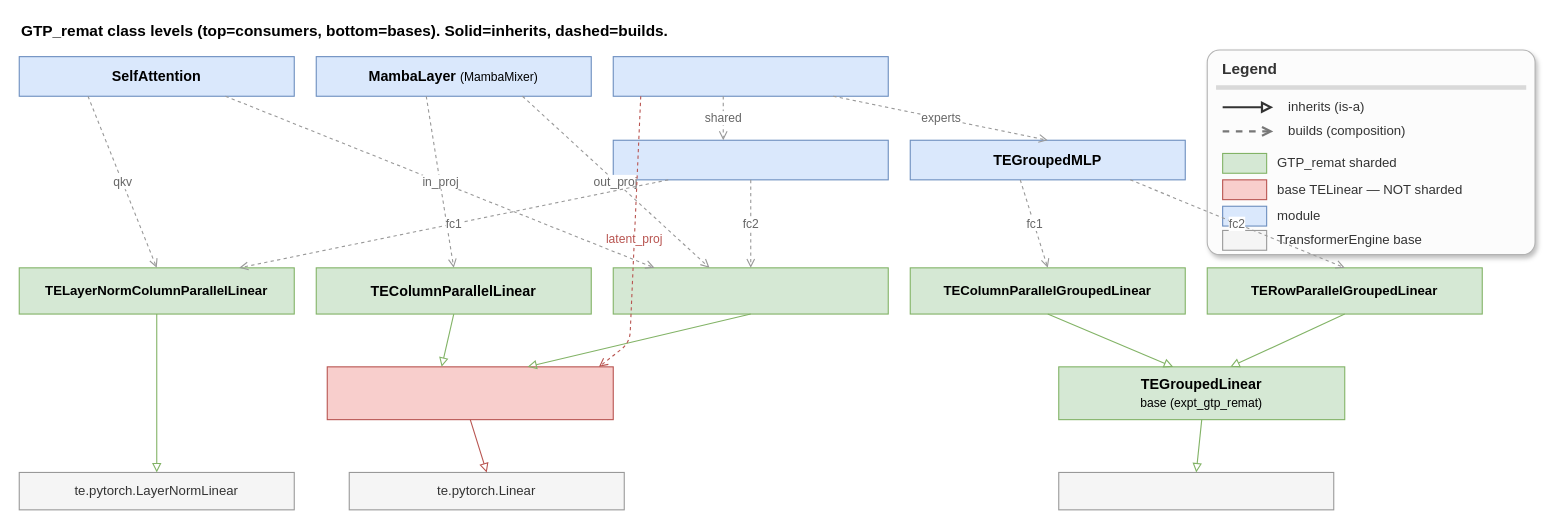
This 1561x529 diagram has some shape labels left out. Here are the shapes that lost their labels. From the top down, the centre of each, then its label:
the point at 750,76: MoELayer
the point at 750,159: SharedExpertMLP (MLP)
the point at 750,290: TERowParallelLinear
the point at 469,393: TELinear base — NOT sharded (latent_proj)
the point at 1196,490: te.pytorch.GroupedLinear
